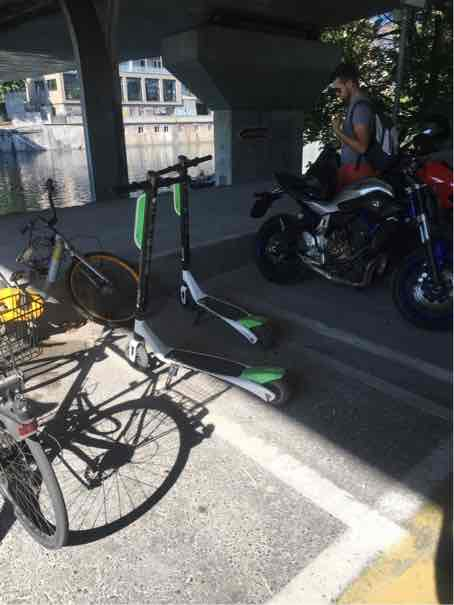scooter: (116, 158, 290, 402)
